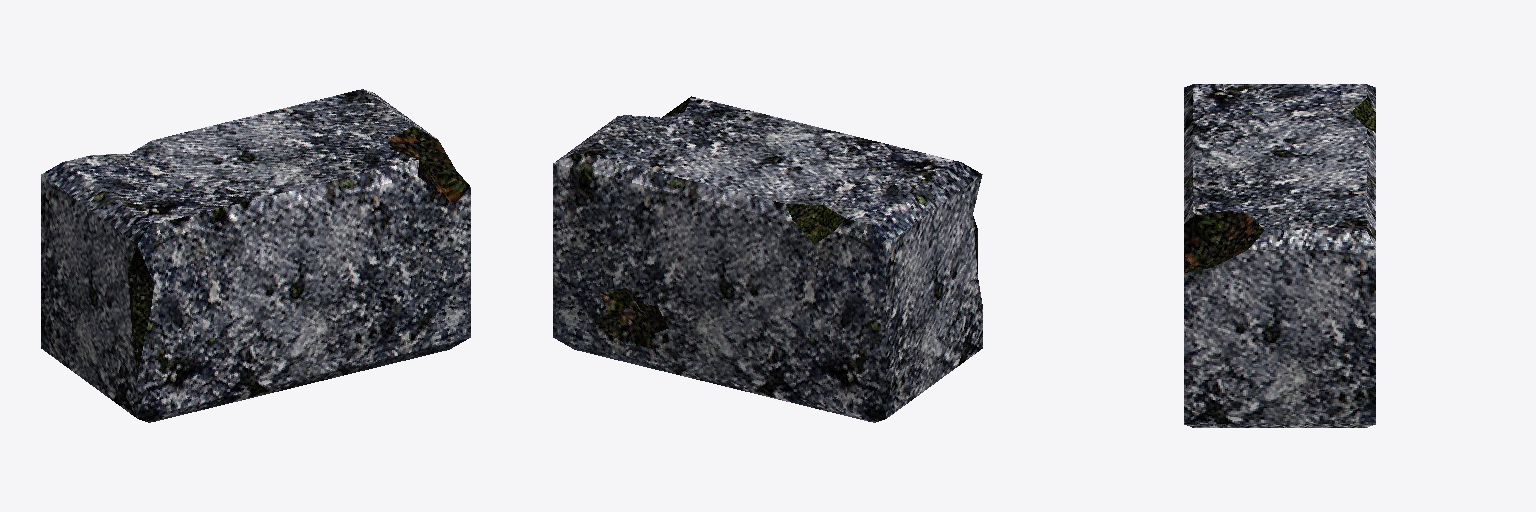
3 renders of one model, left to right at view 1: azimuth 30°, elevation 25°; view 2: azimuth 150°, elevation 25°; view 3: azimuth 270°, elevation 25°, orthographic.
Visible parts, largest first — view 1: Brick; view 2: Brick; view 3: Brick.
Boxes of the visible parts, x1=… form: Brick: x1=41, y1=89, x2=470, y2=422; Brick: x1=553, y1=96, x2=982, y2=422; Brick: x1=1184, y1=84, x2=1375, y2=427.
Bounding box in the file's own units: 1.2 × 0.68 × 0.6.
Materials: 1 (1 with a texture image).